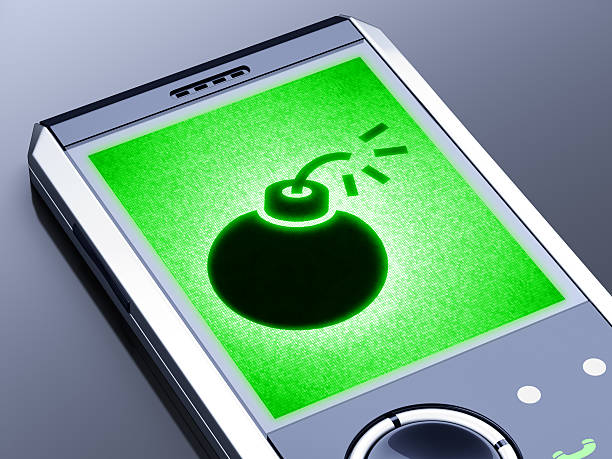e1: (208, 162, 390, 328)
